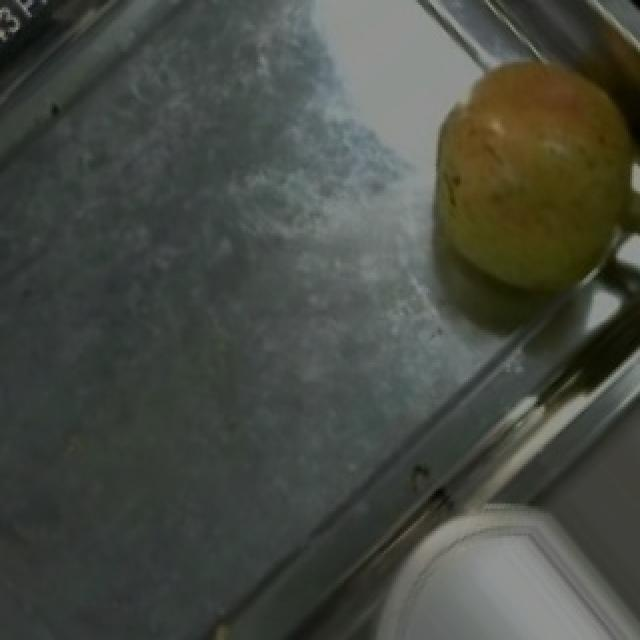fruit: (400, 25, 640, 305)
